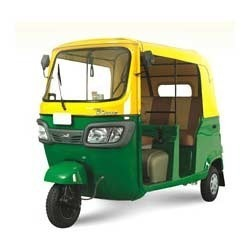auto: (36, 35, 227, 230)
